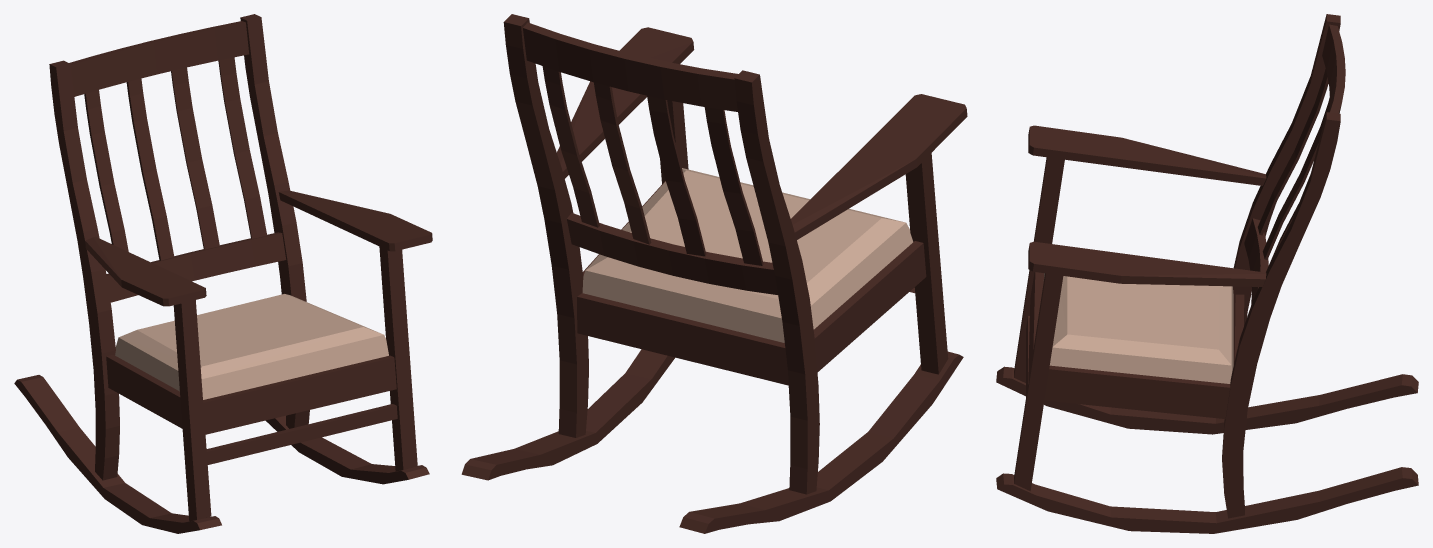
Rendered from Rocking Chair.glb.
The picture shows the model from 3 angles, left to right: view 1: azimuth 30°, elevation 25°; view 2: azimuth 150°, elevation 25°; view 3: azimuth 270°, elevation 25°; orthographic projection. The views are drawn at different scales.
Visible parts, largest first — view 1: Rocking_chair; view 2: Rocking_chair; view 3: Rocking_chair.
Part boxes in pixels (x1=…): Rocking_chair: x1=14, y1=14, x2=432, y2=533; Rocking_chair: x1=461, y1=14, x2=967, y2=533; Rocking_chair: x1=996, y1=14, x2=1418, y2=533.
Bounding box in the file's own units: 0.4961 × 0.689 × 0.6406.
Materials: 1 (1 with a texture image).
